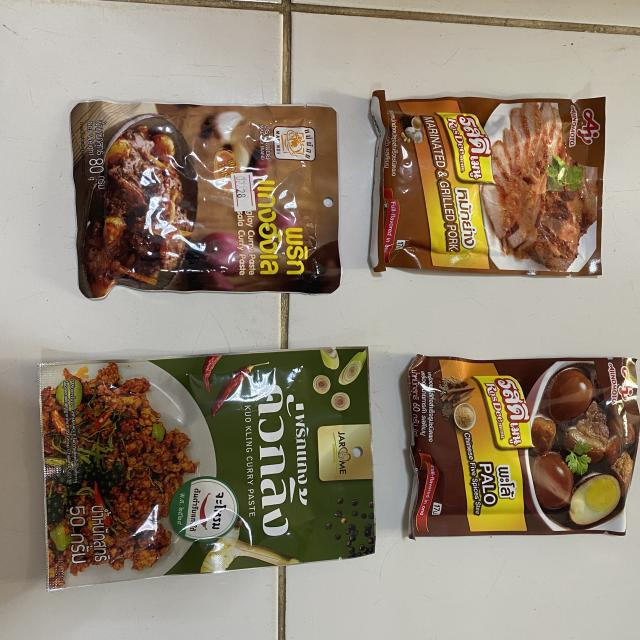plastik: (39, 348, 375, 590), (71, 101, 341, 299), (370, 91, 605, 276), (408, 355, 640, 538)
